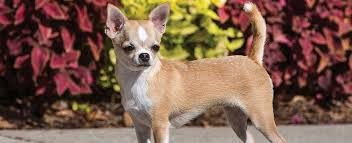Chihuahua: (89, 1, 295, 143)
